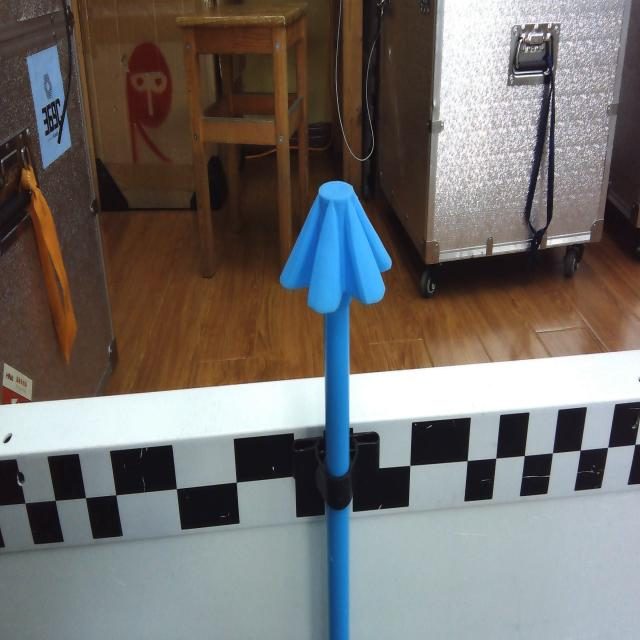zblue-Stake-Head: (281, 179, 393, 312)
